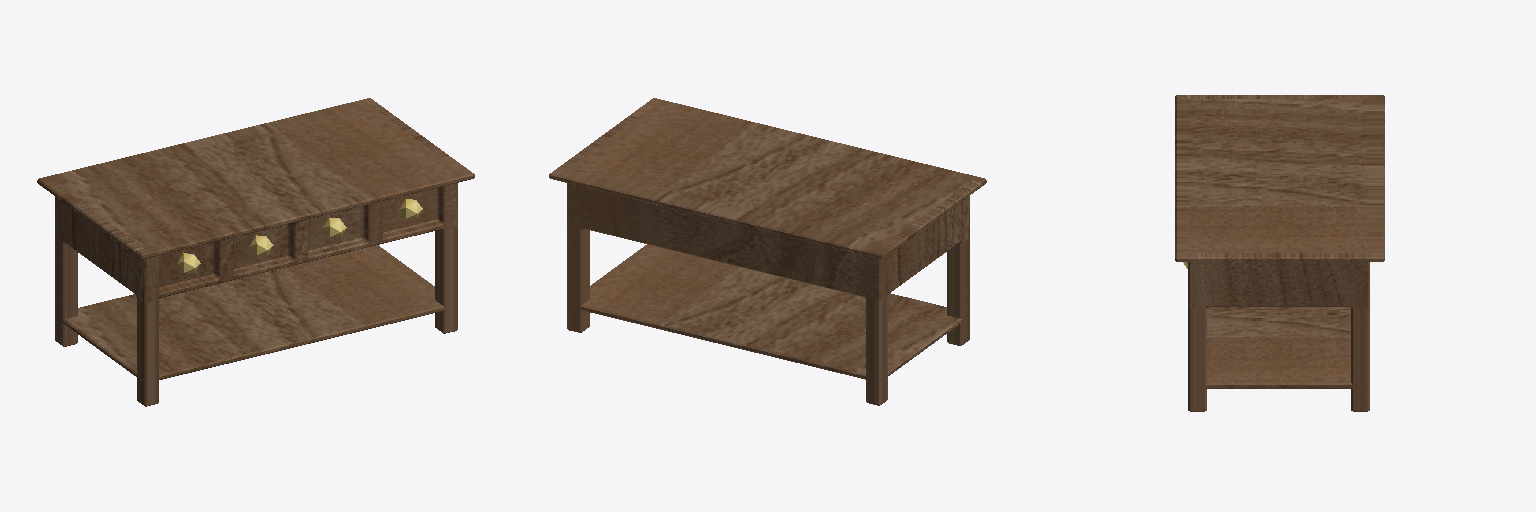
The picture shows the model from 3 angles: view 1: azimuth 30°, elevation 25°; view 2: azimuth 150°, elevation 25°; view 3: azimuth 270°, elevation 25°; orthographic projection.
Parts seen in each view (by area): view 1: pCube10, pCube11; view 2: pCube10, pCube11; view 3: pCube10, pCube11.
Boxes of the visible parts, x1,y1,x2,y2 form: pCube10: [37, 98, 474, 406]; pCube11: [56, 245, 454, 381]; pCube10: [549, 98, 986, 405]; pCube11: [571, 244, 962, 380]; pCube10: [1175, 95, 1384, 411]; pCube11: [1193, 307, 1367, 388].
Bounding box in the file's own units: 6.4 × 2.92 × 3.48.
Materials: 5 (2 with a texture image).